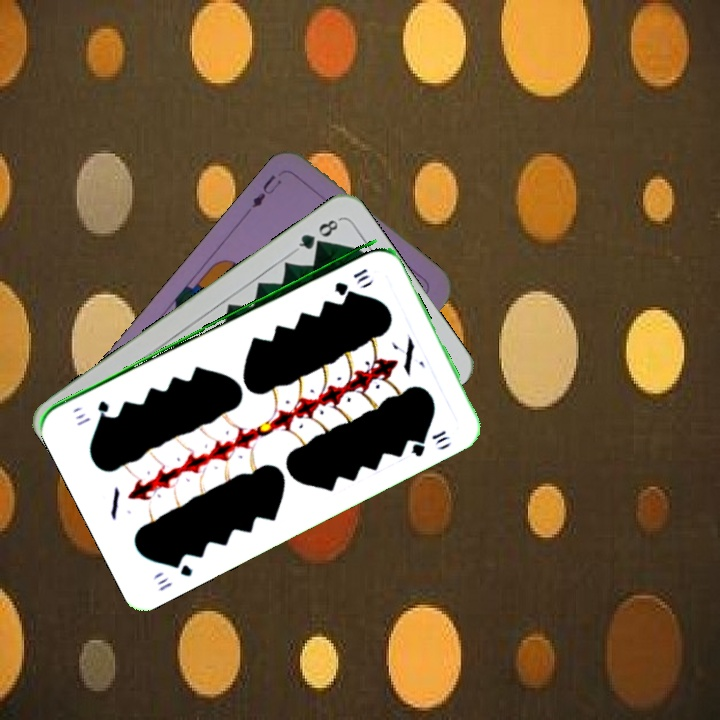EU: (247, 170, 285, 211)
G10: (153, 554, 195, 594), (330, 264, 372, 295)
G8: (291, 214, 344, 254)
